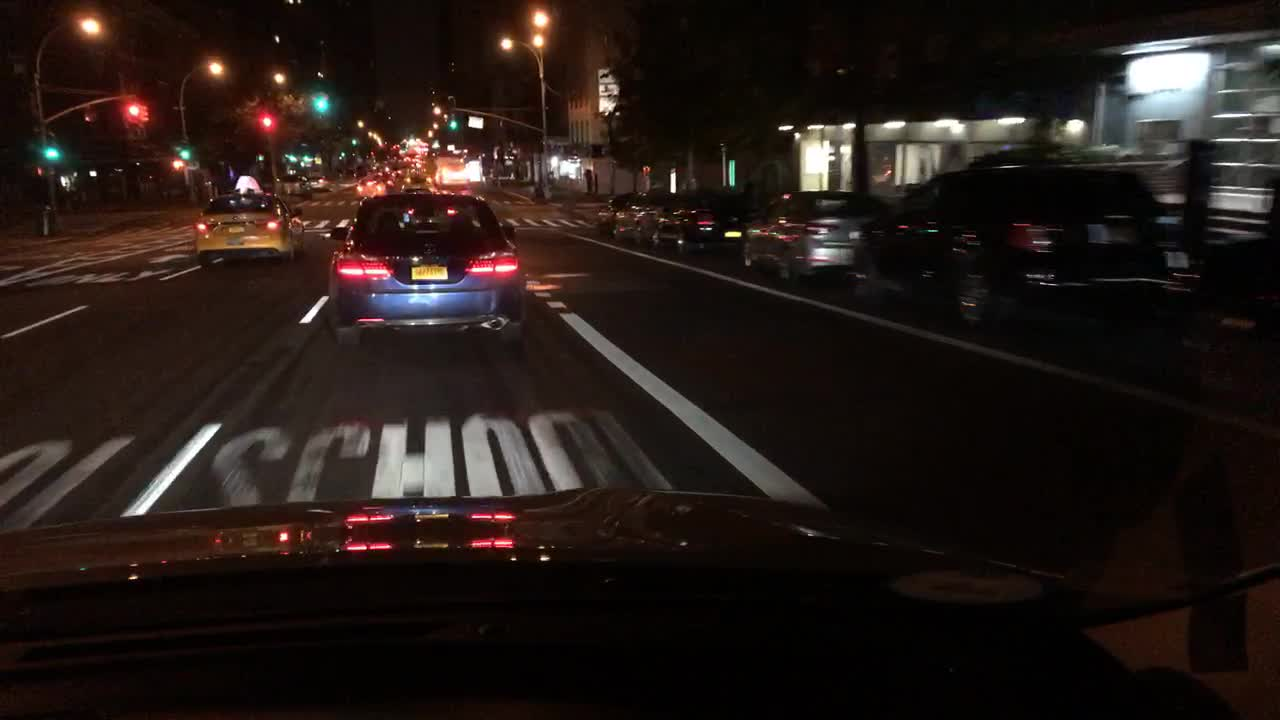car: (871, 150, 1174, 325), (330, 190, 526, 347), (1163, 231, 1277, 386), (738, 182, 886, 287), (190, 174, 299, 266), (651, 185, 746, 250), (615, 184, 672, 240), (595, 190, 635, 231), (355, 175, 400, 200), (300, 174, 335, 192), (434, 169, 468, 185), (368, 166, 403, 181), (433, 181, 466, 196), (271, 173, 308, 185), (386, 160, 409, 176), (405, 182, 433, 194), (411, 167, 433, 182), (434, 161, 465, 171), (397, 154, 413, 164), (433, 152, 449, 162), (415, 159, 428, 167), (415, 151, 426, 160)
person: (1174, 133, 1215, 231), (212, 154, 236, 197), (642, 166, 649, 176)
traffic light: (134, 104, 147, 124), (260, 105, 271, 128), (125, 100, 137, 120), (44, 147, 61, 161), (315, 96, 325, 110), (179, 148, 189, 159), (35, 166, 45, 176), (170, 159, 179, 169), (447, 120, 456, 130), (348, 137, 357, 146), (83, 113, 93, 121)
traffic sign: (466, 114, 482, 128)
